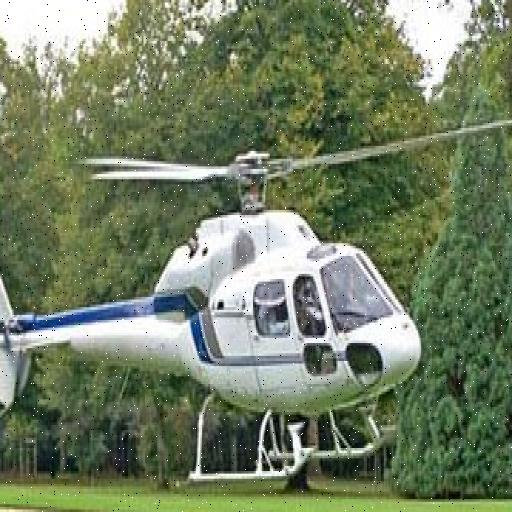helicopter: (1, 103, 512, 495)
